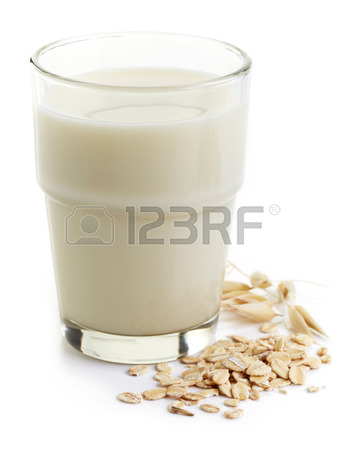glass of milk: (21, 40, 243, 358)
